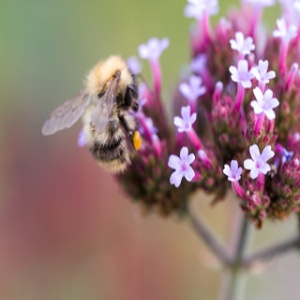bee: (39, 55, 144, 181)
